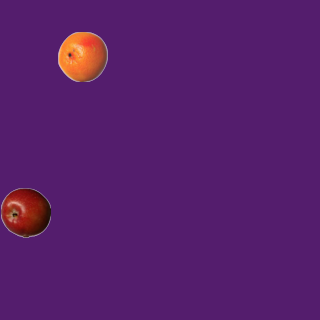Apple Braeburn: (0, 187, 50, 237)
Grapefruit Pink: (57, 31, 107, 81)
